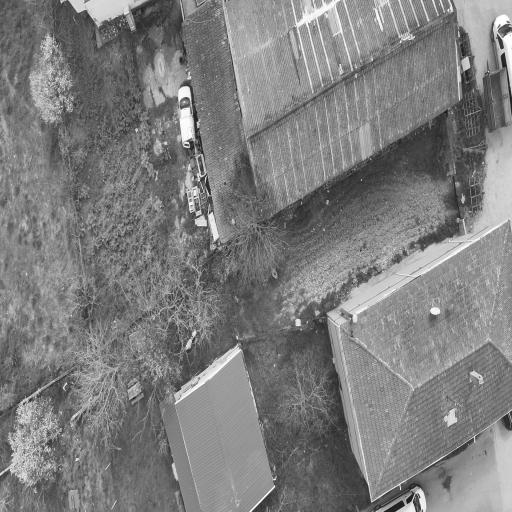car: (492, 14, 511, 106), (373, 484, 425, 511), (177, 85, 194, 146)
